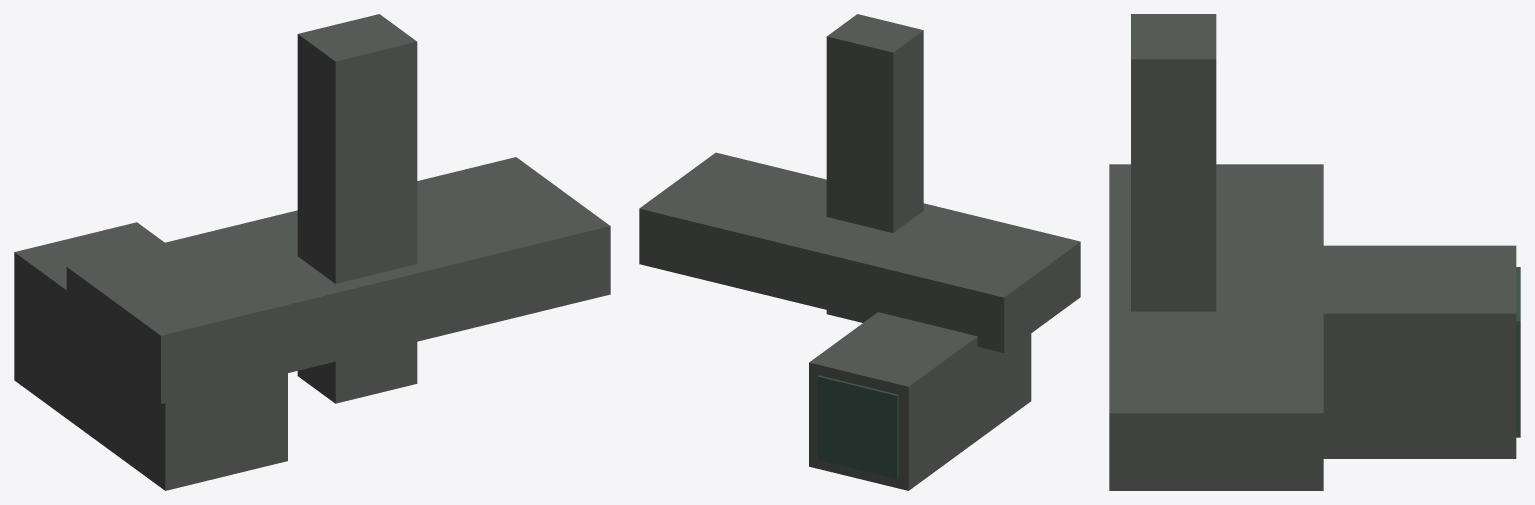
Rendered from nvg_gen1.glb.
3 views of the same model, side by side, from view 1: azimuth 30°, elevation 25°; view 2: azimuth 150°, elevation 25°; view 3: azimuth 270°, elevation 25° (orthographic). The views are drawn at different scales.
Visible parts, largest first — view 1: goggle_mesh; view 2: goggle_mesh; view 3: goggle_mesh.
Part boxes in pixels (<box>): goggle_mesh: <box>14,14,610,490</box>; goggle_mesh: <box>639,14,1080,490</box>; goggle_mesh: <box>1109,14,1520,490</box>.
Bounding box in the file's own units: 0.275 × 0.2375 × 0.192.
